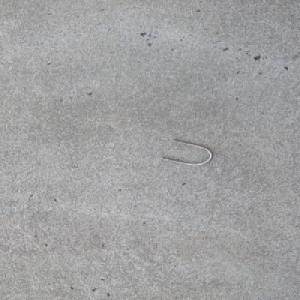ClampPart: (160, 139, 215, 166)
